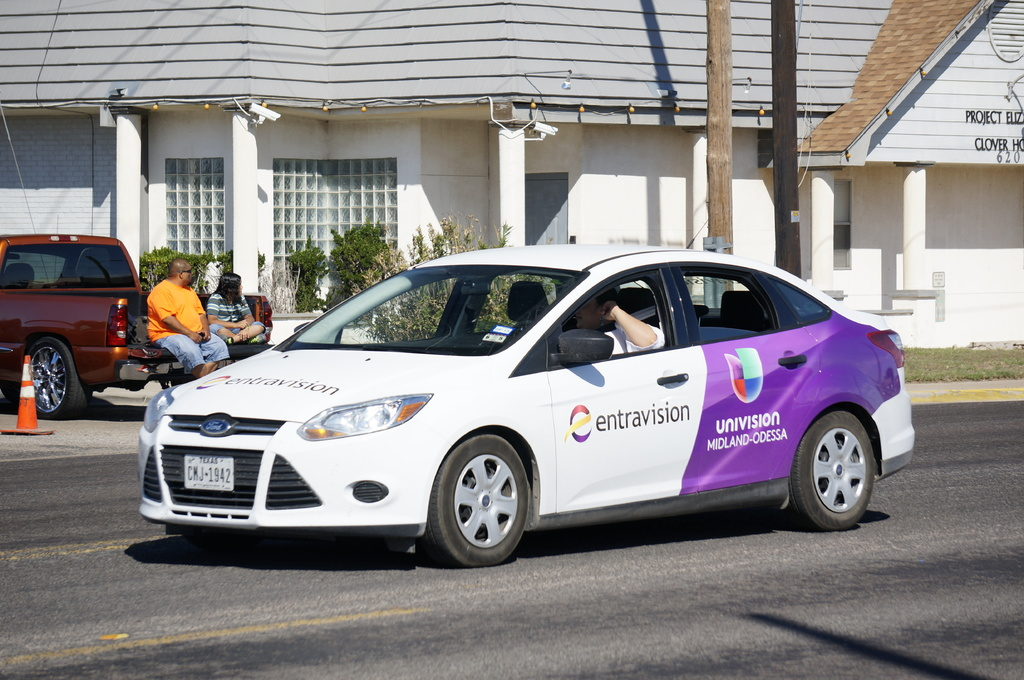car: (134, 253, 912, 570), (1, 226, 290, 414)
